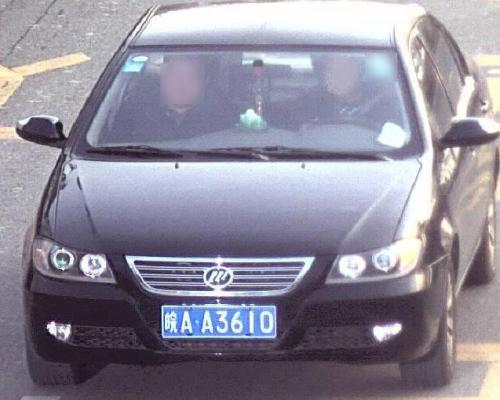Carplate: (148, 296, 284, 348)
